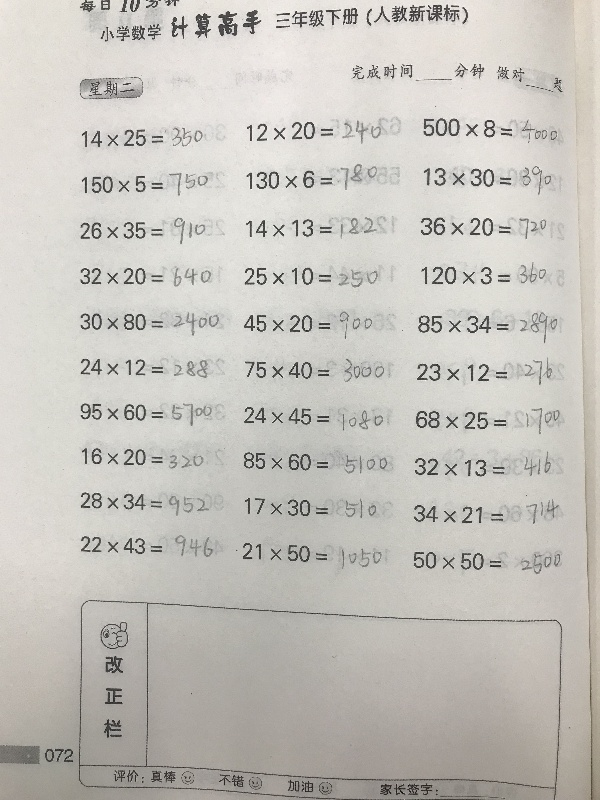equation: (409, 541, 566, 581), (397, 307, 561, 345), (408, 490, 565, 527), (419, 105, 563, 144), (240, 308, 399, 343), (410, 445, 565, 480), (243, 162, 403, 195), (413, 356, 563, 391), (412, 405, 569, 438), (241, 355, 398, 387), (421, 162, 556, 199), (241, 537, 383, 571), (78, 529, 220, 563), (240, 403, 393, 434), (240, 446, 393, 477), (243, 116, 385, 149), (76, 488, 227, 519), (77, 308, 223, 340), (242, 213, 397, 243), (76, 399, 227, 429), (77, 214, 210, 248), (416, 258, 564, 288), (78, 444, 230, 473), (240, 264, 396, 290), (77, 355, 224, 382), (76, 263, 215, 291), (242, 493, 378, 521), (416, 212, 550, 240), (78, 124, 207, 151), (78, 172, 167, 197)
